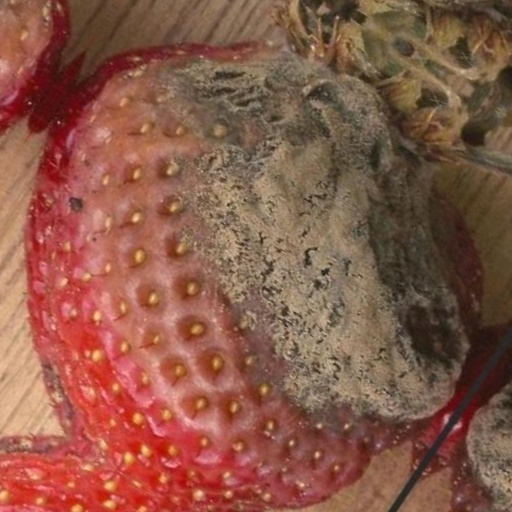Gray Mold: (30, 0, 501, 511)
